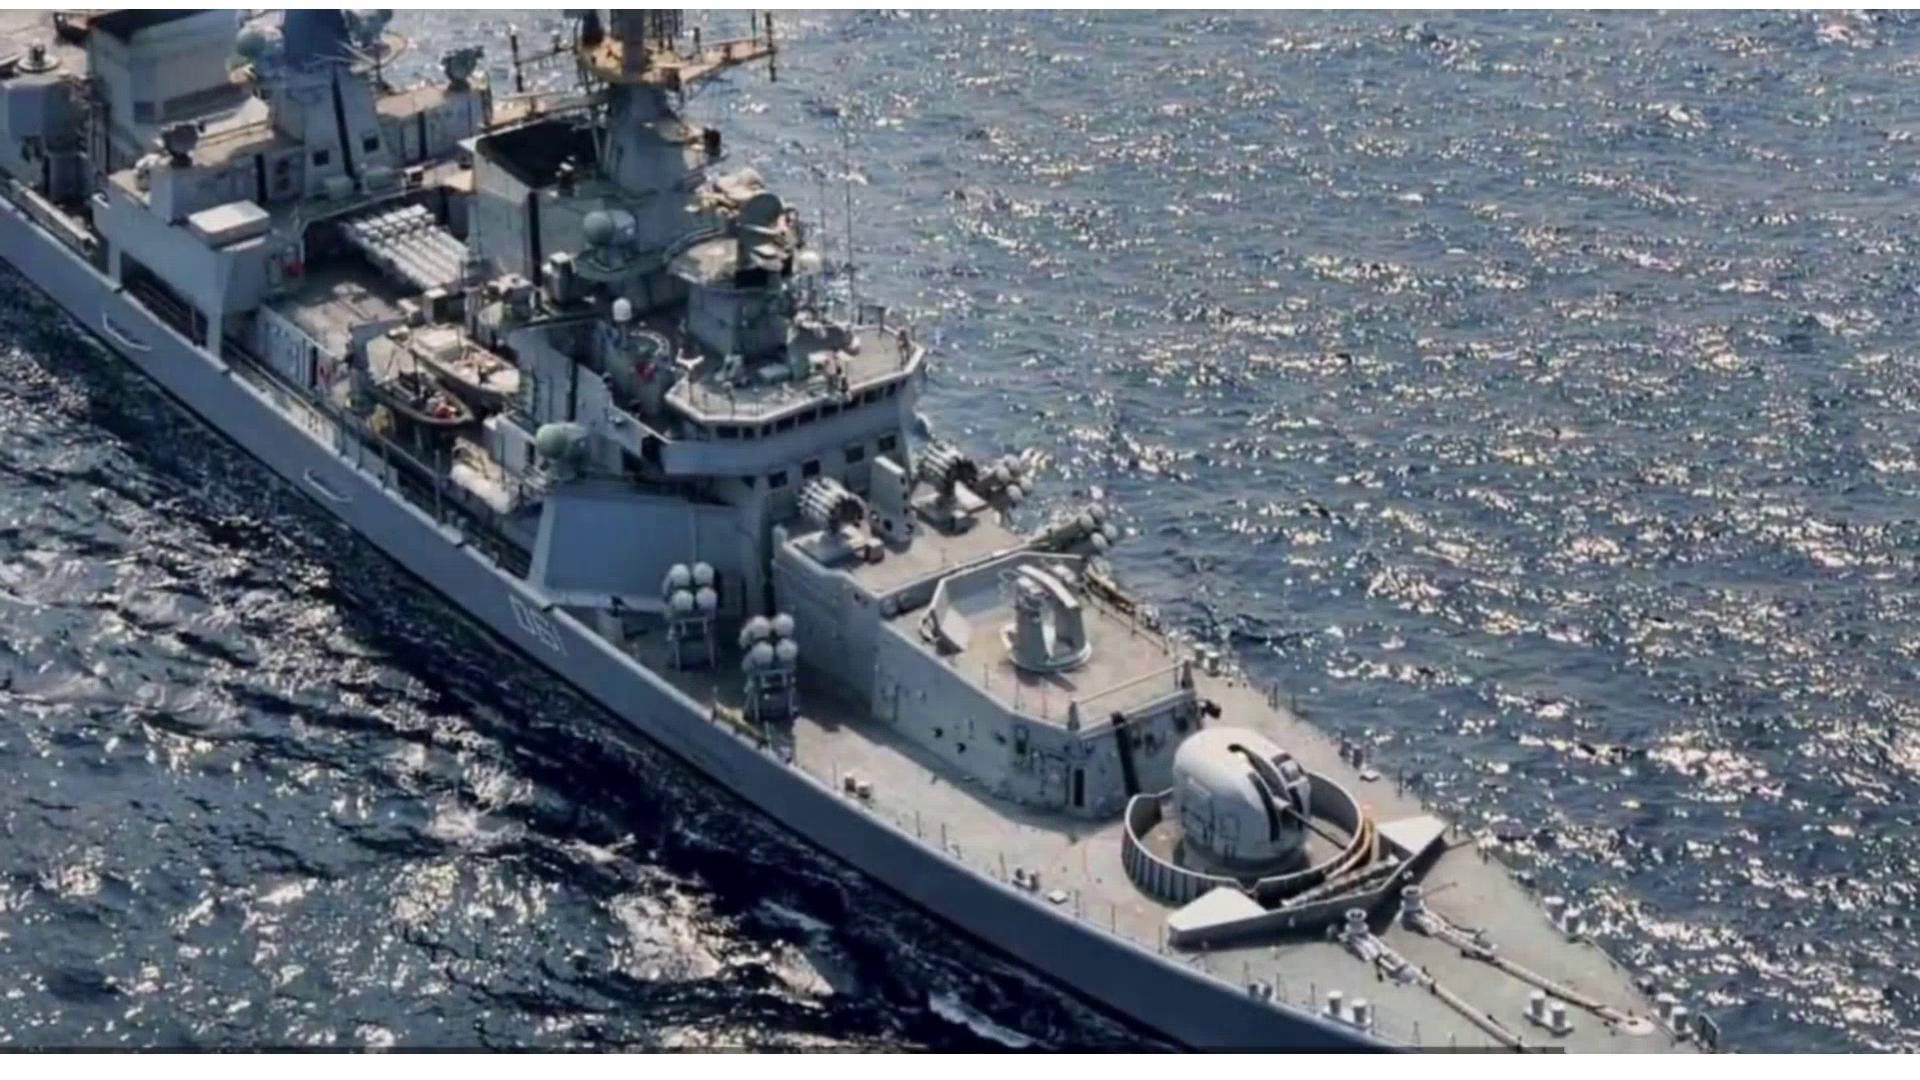OCR: (504, 590, 572, 672)
